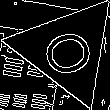O_E: (33, 20, 101, 80)
